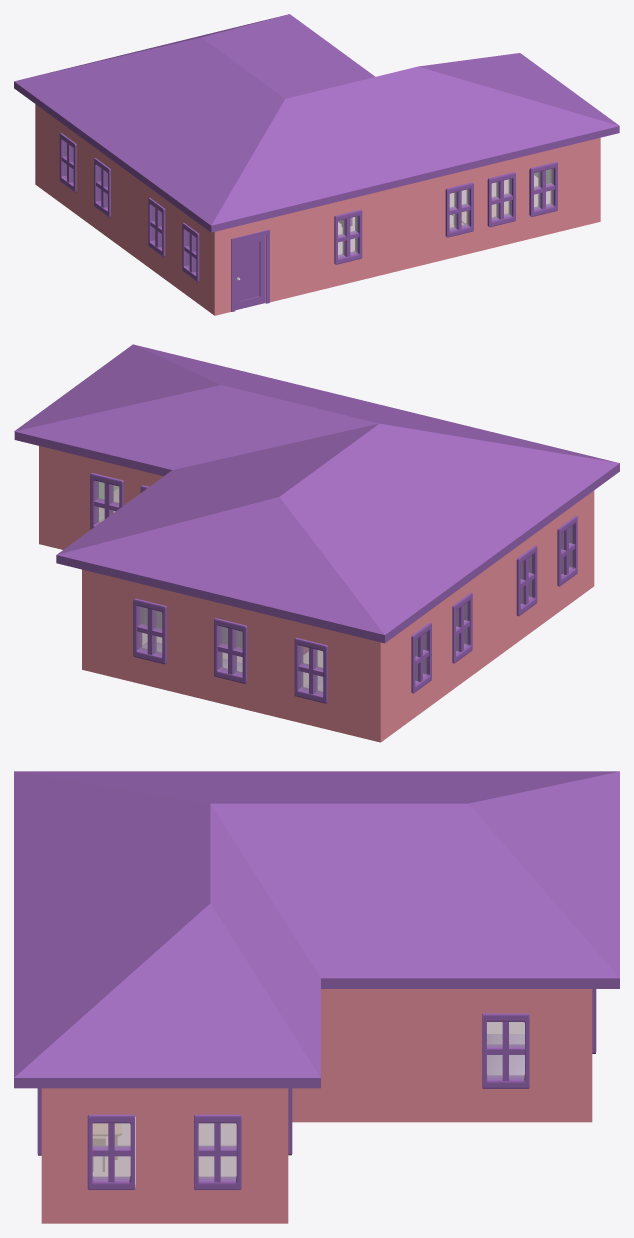
File: Home.fbx
3 views of the same model, one above another, from view 1: azimuth 30°, elevation 25°; view 2: azimuth 150°, elevation 25°; view 3: azimuth 270°, elevation 25° (orthographic). The views are drawn at different scales.
Parts seen in each view (by area): view 1: Roof, House Walls, House Door, Window Frame, Window Frame.002, Window Frame.003, Window Frame.001, Window Frame.008, Window Frame.009, Window Frame.010, Window Frame.011, Floor (+5 smaller); view 2: Roof, House Walls, Window Frame.014, Window Frame.012, Window Frame.013, Window Frame.008, Window Frame.010, Window Frame.011, Window Frame.009, Window Frame.004, Window.014, Window.012 (+3 smaller); view 3: Roof, House Walls, Floor, Window Frame.007, Window Frame.006, Window Frame.015, Window.007, Window.006, Window.015, DormRoomCarpet.002.
Part boxes in pixels (x1=…): Roof: x1=14, y1=14, x2=619, y2=232; House Walls: x1=35, y1=104, x2=600, y2=315; House Door: x1=235, y1=234, x2=265, y2=310; Window Frame: x1=334, y1=209, x2=362, y2=264; Window Frame.002: x1=445, y1=182, x2=473, y2=237; Window Frame.003: x1=529, y1=162, x2=557, y2=216; Window Frame.001: x1=487, y1=172, x2=515, y2=227; Window Frame.008: x1=148, y1=197, x2=165, y2=257; Window Frame.009: x1=182, y1=222, x2=199, y2=282; Window Frame.010: x1=59, y1=133, x2=76, y2=192; Window Frame.011: x1=94, y1=158, x2=110, y2=217; Floor: x1=338, y1=175, x2=550, y2=254; Roof: x1=14, y1=344, x2=619, y2=643; House Walls: x1=39, y1=446, x2=594, y2=742; Window Frame.014: x1=133, y1=598, x2=166, y2=664; Window Frame.012: x1=294, y1=637, x2=327, y2=703; Window Frame.013: x1=214, y1=618, x2=247, y2=683; Window Frame.008: x1=516, y1=545, x2=537, y2=616; Window Frame.010: x1=411, y1=622, x2=431, y2=693; Window Frame.011: x1=452, y1=592, x2=472, y2=663; Window Frame.009: x1=557, y1=515, x2=577, y2=586; Window Frame.004: x1=90, y1=473, x2=123, y2=529; Window.014: x1=138, y1=606, x2=162, y2=655; Window.012: x1=299, y1=646, x2=323, y2=695; Roof: x1=14, y1=771, x2=619, y2=1088; House Walls: x1=41, y1=989, x2=592, y2=1223; Floor: x1=92, y1=1022, x2=524, y2=1184; Window Frame.007: x1=87, y1=1114, x2=135, y2=1189; Window Frame.006: x1=194, y1=1114, x2=241, y2=1189; Window Frame.015: x1=482, y1=1013, x2=529, y2=1088; Window.007: x1=92, y1=1123, x2=130, y2=1180; Window.006: x1=198, y1=1123, x2=236, y2=1180; Window.015: x1=487, y1=1022, x2=524, y2=1079; DormRoomCarpet.002: x1=487, y1=1034, x2=524, y2=1075.
Bounding box in the file's own units: 9226 × 3158 × 7710.
